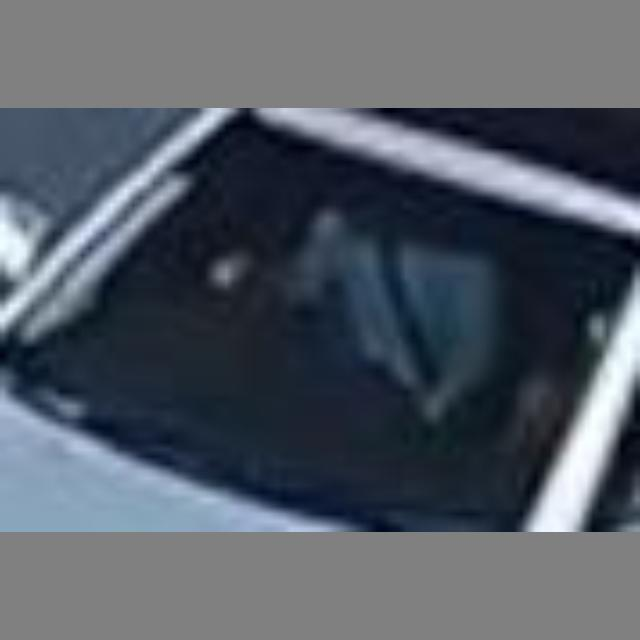pakai: (244, 201, 496, 417)
